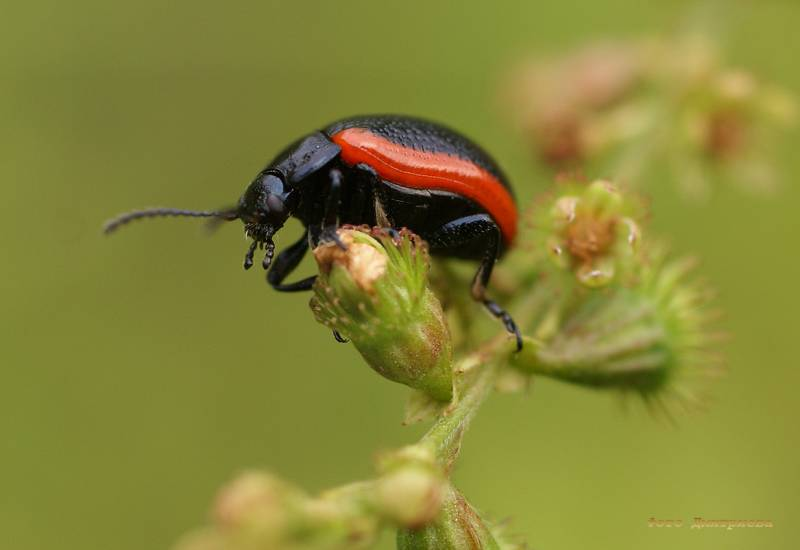Chrysolina_gypsophila: (97, 111, 531, 359)
